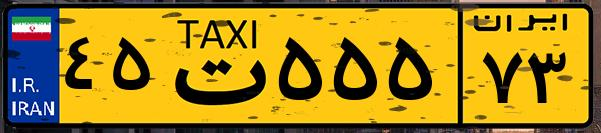3: (525, 38, 570, 115)
4: (57, 26, 110, 100)
5: (270, 28, 330, 110), (385, 28, 445, 110), (330, 28, 385, 110), (110, 28, 158, 98)
7: (475, 38, 525, 113)
ت: (158, 12, 270, 120)
